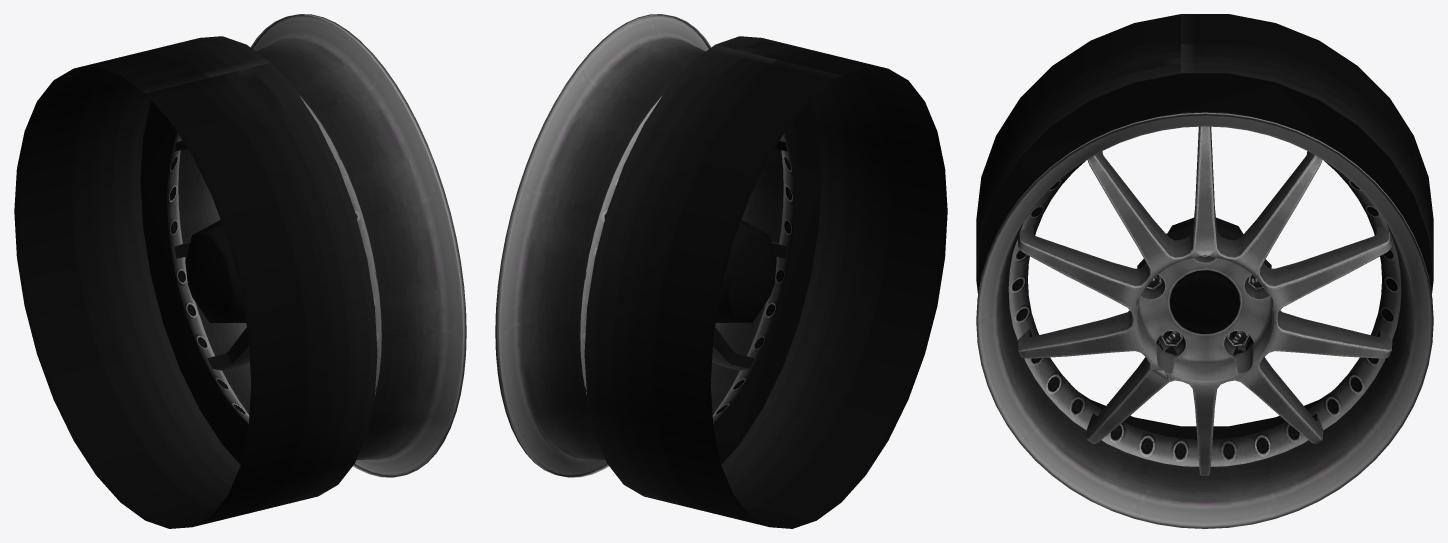
File: wheel21.fbx
3 renders of one model, left to right at view 1: azimuth 30°, elevation 25°; view 2: azimuth 150°, elevation 25°; view 3: azimuth 270°, elevation 25°, orthographic. The views are drawn at different scales.
Parts seen in each view (by area): view 1: bli_technospeedz1_wheel_wheel_inner_rim_, wheel_rim, bli_technospeedz1_wheel_wheel_rim_; view 2: bli_technospeedz1_wheel_wheel_inner_rim_, wheel_rim, bli_technospeedz1_wheel_wheel_rim_; view 3: bli_technospeedz1_wheel_wheel_rim_, wheel_rim, bli_technospeedz1_wheel_wheel_inner_rim_.
Boxes of the visible parts, x1,y1,x2,y2 form: bli_technospeedz1_wheel_wheel_inner_rim_: [14, 36, 377, 528]; wheel_rim: [167, 14, 466, 477]; bli_technospeedz1_wheel_wheel_rim_: [169, 14, 463, 477]; bli_technospeedz1_wheel_wheel_inner_rim_: [584, 36, 947, 528]; wheel_rim: [495, 14, 794, 477]; bli_technospeedz1_wheel_wheel_rim_: [496, 14, 794, 477]; bli_technospeedz1_wheel_wheel_rim_: [976, 112, 1433, 528]; wheel_rim: [976, 112, 1433, 528]; bli_technospeedz1_wheel_wheel_inner_rim_: [976, 14, 1433, 439].
Bounding box in the file's own units: 0.2285 × 0.4352 × 0.4352.
1 material, 1 textured.
